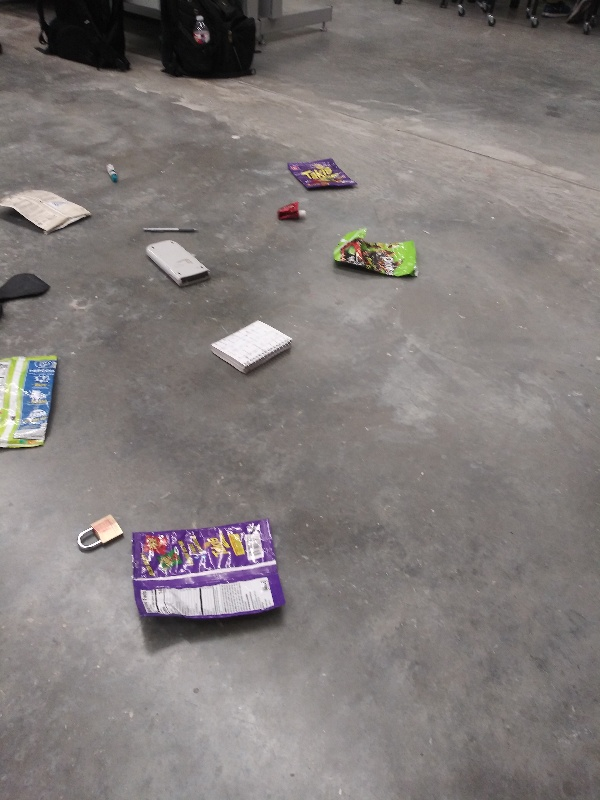bag: (128, 514, 290, 628), (1, 349, 66, 451), (323, 224, 424, 282), (1, 184, 100, 239), (281, 155, 358, 194)
bottle: (189, 11, 213, 48)
